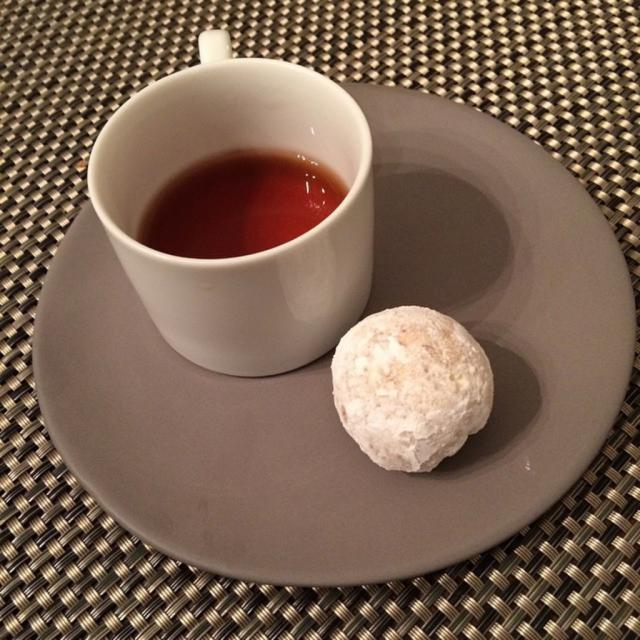Tea: (135, 147, 349, 256)
